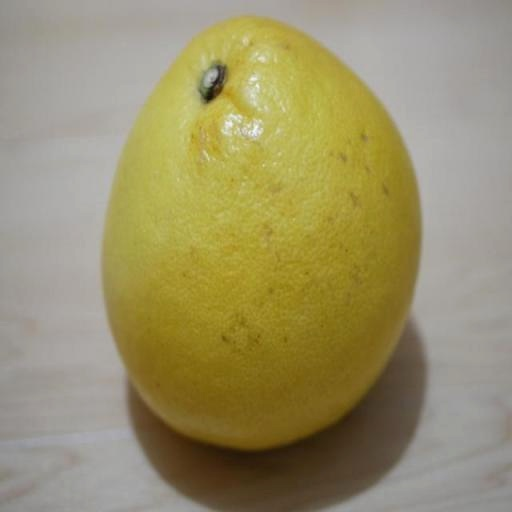fruit: (103, 17, 419, 449)
